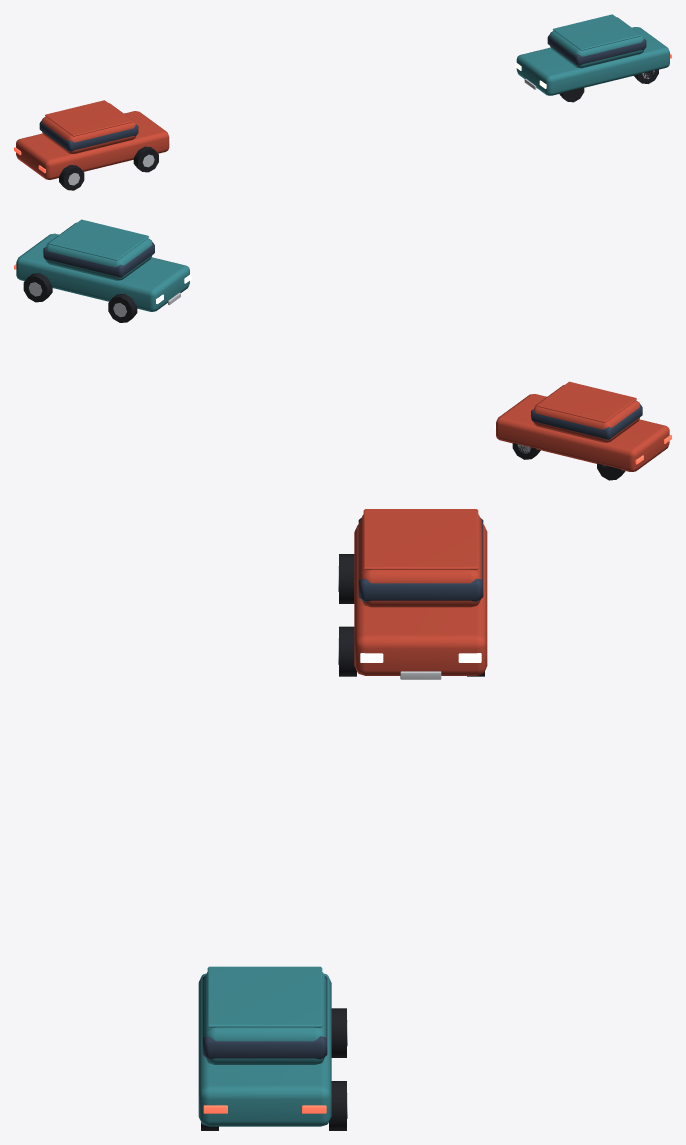
File: welt_auto_klein.glb
3 views of the same model, one above another, from view 1: azimuth 30°, elevation 25°; view 2: azimuth 150°, elevation 25°; view 3: azimuth 270°, elevation 25° (orthographic). The views are drawn at different scales.
Visible parts, largest first — view 1: welt_auto_klein; view 2: welt_auto_klein; view 3: welt_auto_klein.
Boxes of the visible parts, bbox=[...] form: welt_auto_klein: bbox=[14, 14, 671, 190]; welt_auto_klein: bbox=[14, 219, 671, 480]; welt_auto_klein: bbox=[198, 509, 487, 1130].
Bounding box in the file's own units: 16.57 × 1.33 × 3.52.
